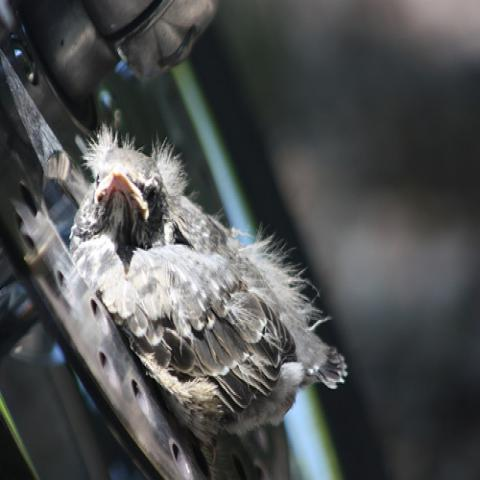motorcycle: (3, 4, 335, 474)
